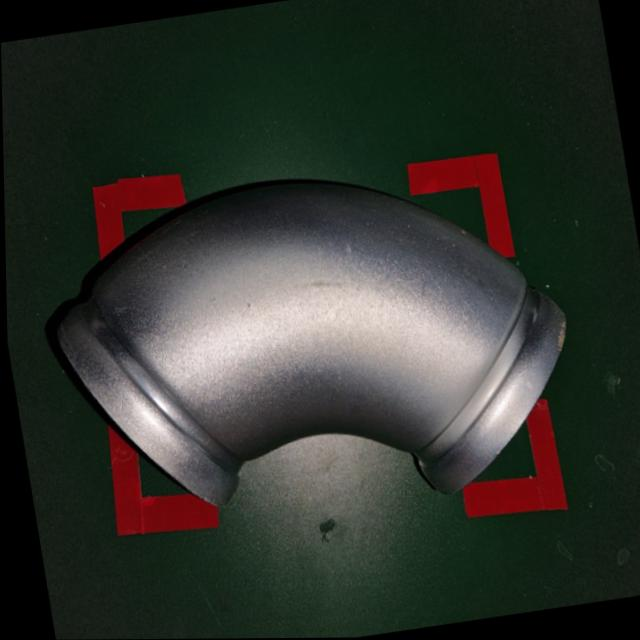Normal: (20, 126, 600, 562)
